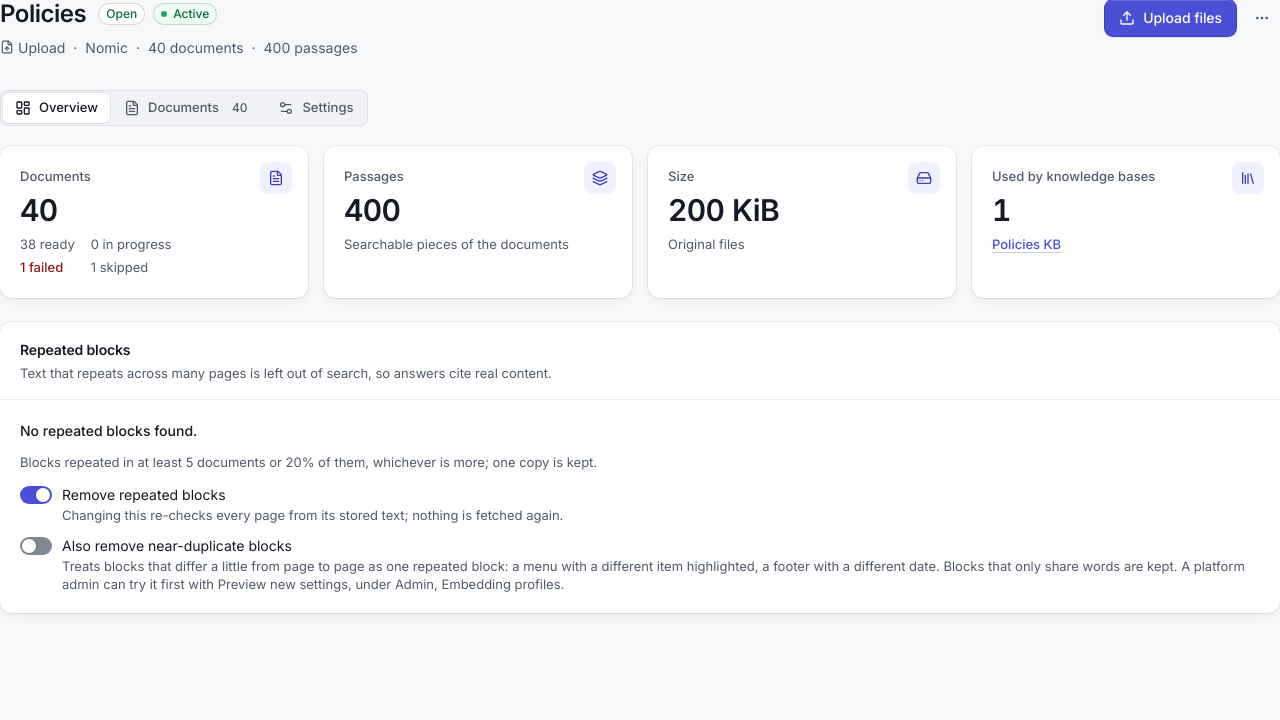
Test: deleting a source that knowledge bases use (BU-17) › names the knowledge bases up front, with no Delete button
expect the text "Used by knowledge bases" is shown: met, box [992, 168, 1155, 184]
Step 1. Click the button named "More actions" → x=1262, y=18, box [1244, 0, 1279, 36]
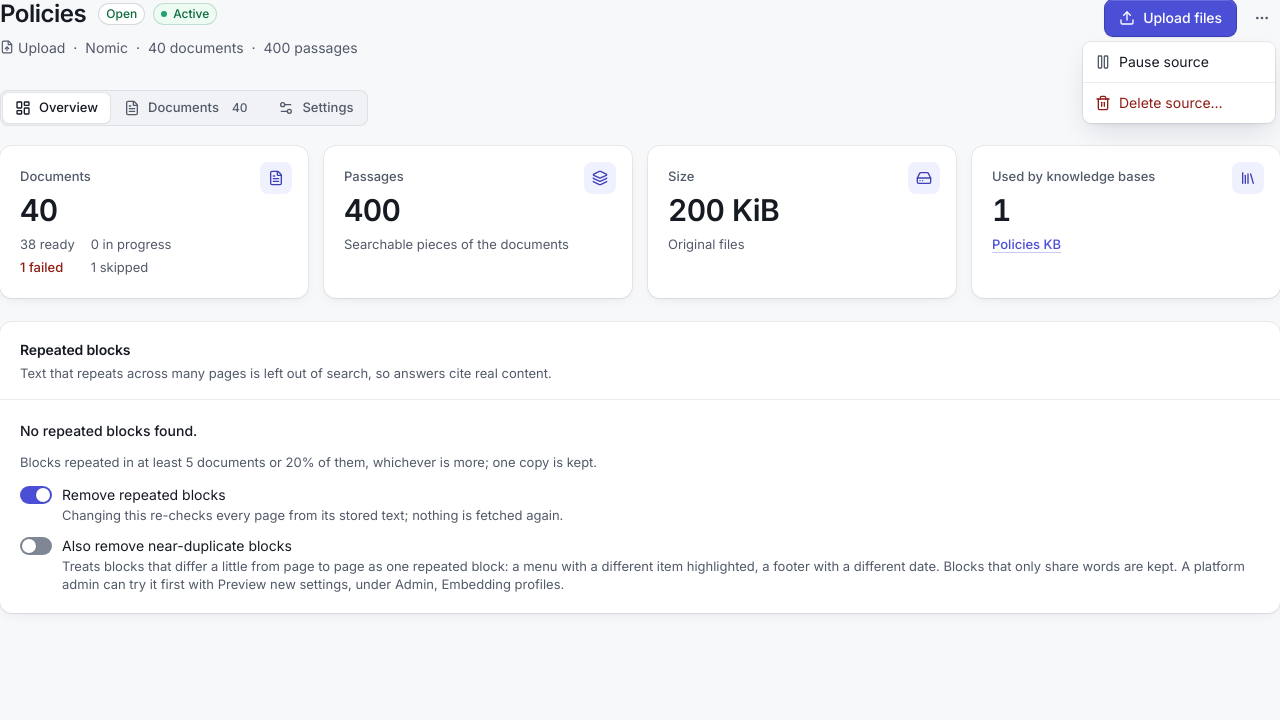
Step 2. Click the menu item "Delete source…" → x=1159, y=102, box [1095, 94, 1223, 111]
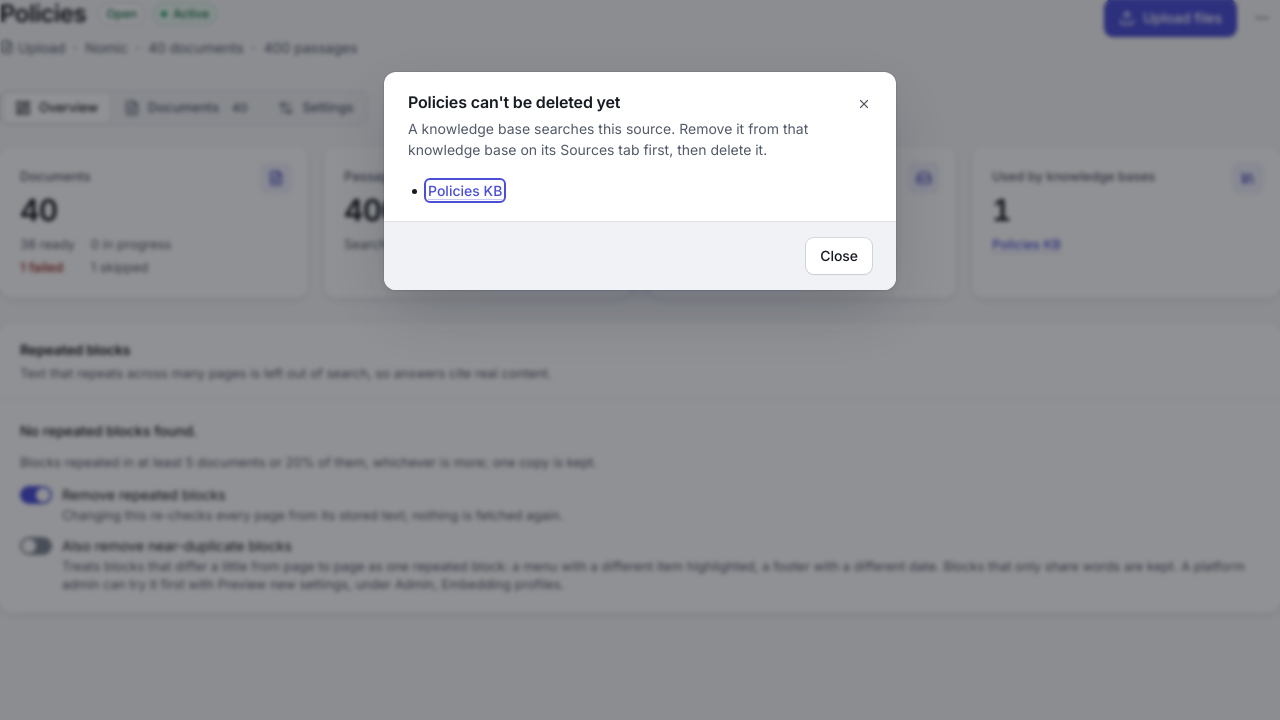
expect the dialog "Policies can't be deleted yet" shows "A knowledge base searches this source. Remove it from that knowledge base on its Sources tab first, then delete it.": met, box [408, 120, 808, 158]
expect the menu item "Delete source" is gone: met
